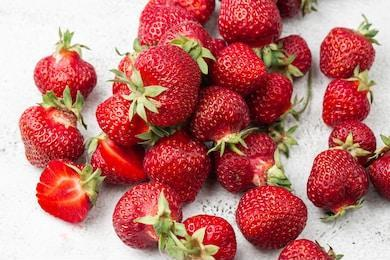Fresa: (123, 40, 201, 130), (141, 124, 213, 209), (110, 178, 189, 255), (233, 183, 310, 251), (304, 146, 375, 218), (18, 102, 87, 170), (29, 46, 103, 109), (188, 82, 256, 147), (204, 39, 269, 97), (314, 23, 378, 80), (168, 210, 240, 260), (319, 76, 376, 129), (326, 118, 379, 164)
